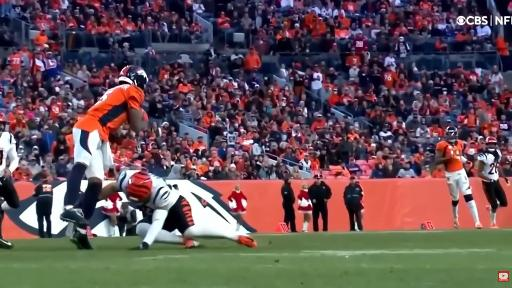Helmet: (126, 171, 152, 202), (118, 66, 148, 90), (445, 126, 457, 142), (0, 112, 8, 131), (486, 137, 497, 150), (486, 137, 497, 144), (0, 112, 7, 122)
Jersey: (75, 84, 144, 141), (144, 174, 180, 213), (436, 140, 463, 172), (0, 132, 17, 175), (477, 150, 501, 180)
Player: (60, 66, 148, 242), (100, 170, 256, 249), (434, 126, 482, 228), (476, 137, 509, 228), (0, 113, 19, 248)
